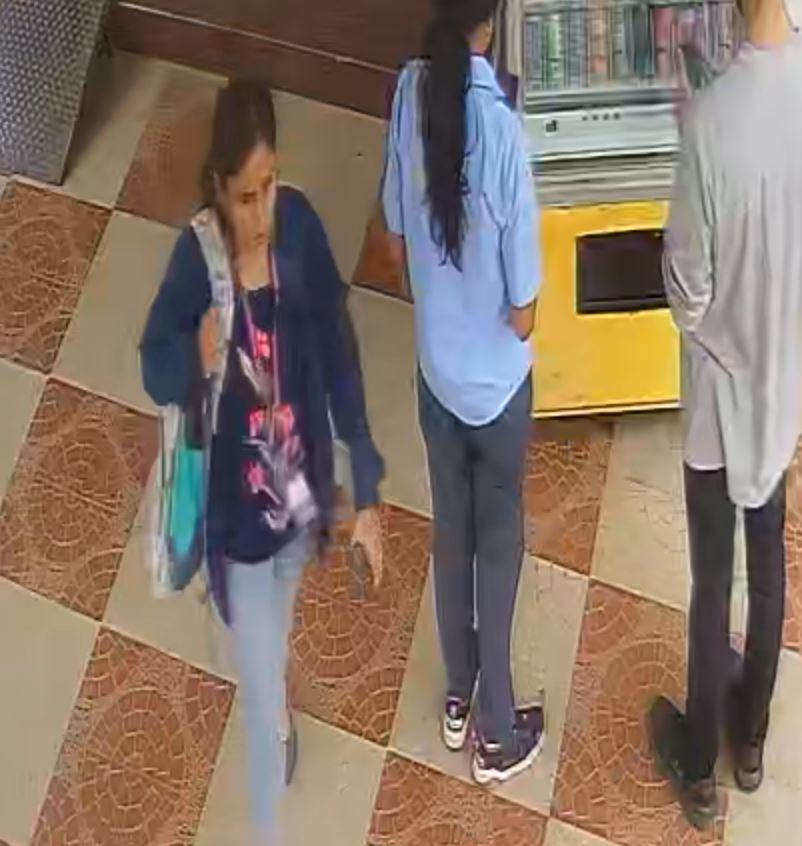intruder: (128, 62, 404, 846)
